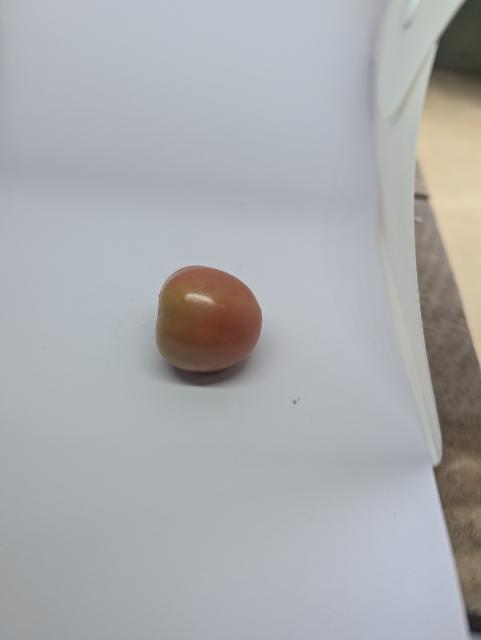turning: (144, 261, 285, 395)
